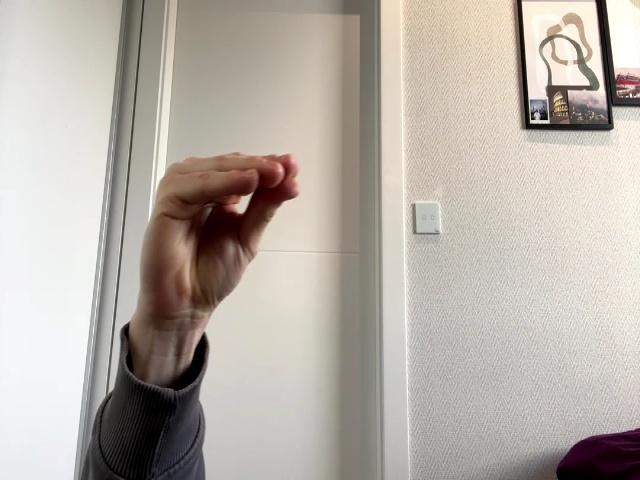E: (138, 153, 302, 320)
